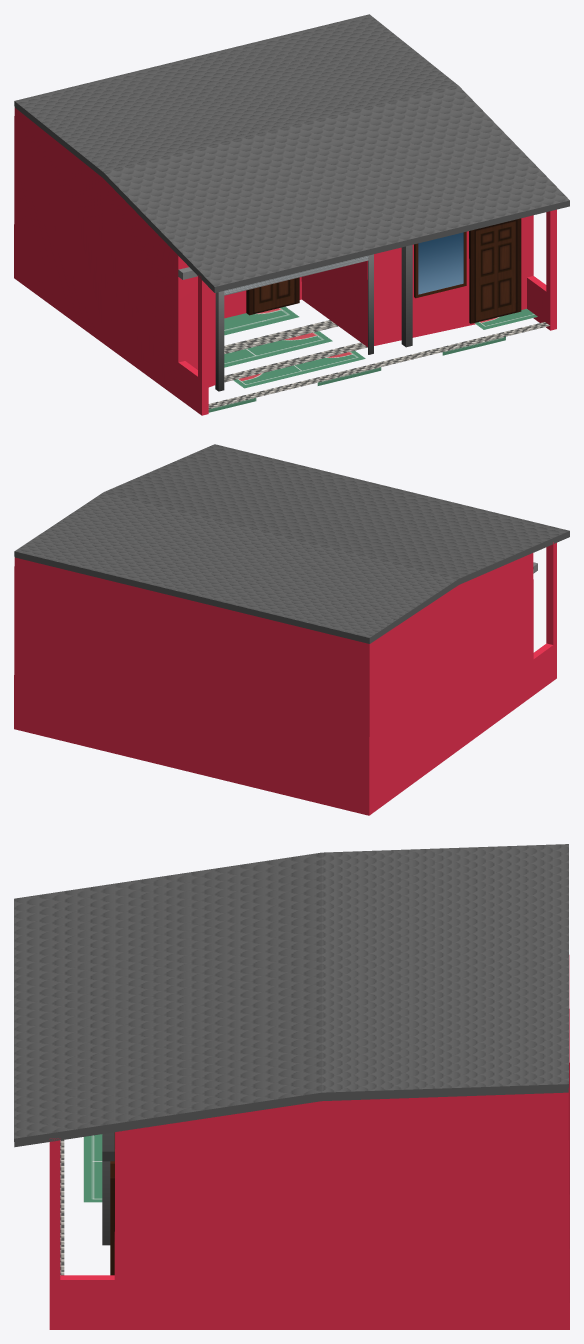
The model's file is RukoKecil2(dalam).fbx.
3 renders of one model, top to bottom at view 1: azimuth 30°, elevation 25°; view 2: azimuth 150°, elevation 25°; view 3: azimuth 270°, elevation 25°, orthographic. The views are drawn at different scales.
Parts seen in each view (by area): view 1: RukoKecil2_LOD0; view 2: RukoKecil2_LOD0; view 3: RukoKecil2_LOD0.
Part boxes in pixels (<box>): RukoKecil2_LOD0: <box>14,14,569,415</box>; RukoKecil2_LOD0: <box>14,444,569,815</box>; RukoKecil2_LOD0: <box>14,844,569,1329</box>.
Size of what is drawn, in the model's own units: 1110 by 530 by 1086.
